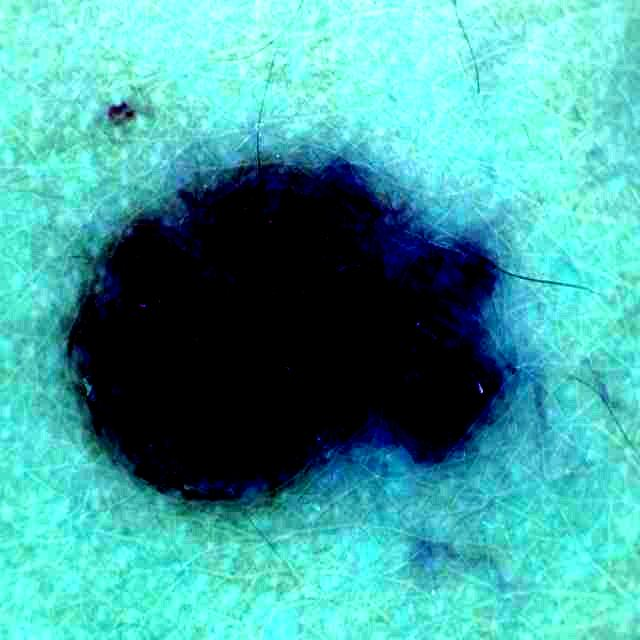VASC: (76, 165, 512, 490)
